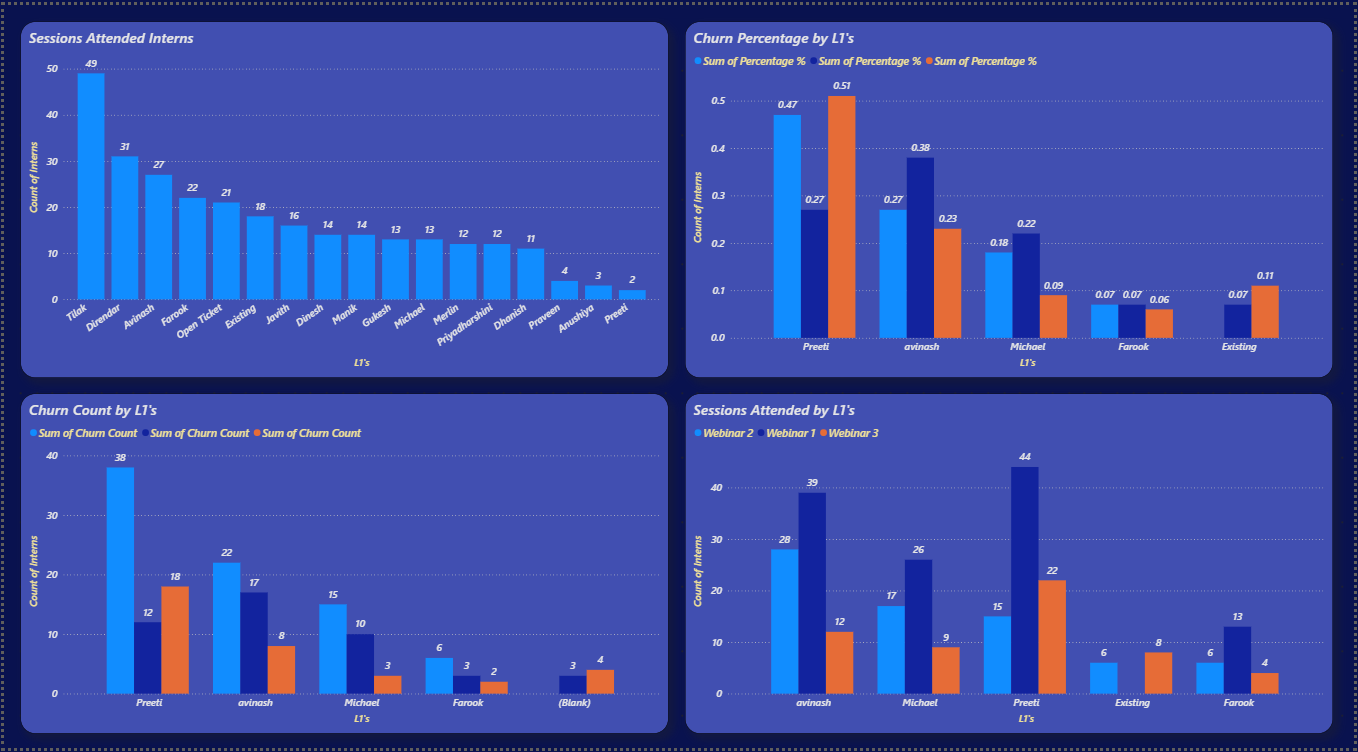

This screenshot's page, from the dashboard's own definition file:
{"tool":"powerbi","page":{"name":"Page 2","canvas":[2000,1100],"ordinal":1},"visuals":[{"type":"columnChart","title":"Sessions Attended Interns","fields":{"Y":["Sum(Final Sheet.number_of_sessions_attended)"],"Category":["Final Sheet.interns"]},"box":[24,24,960,528],"z":0},{"type":"clusteredColumnChart","title":"Sessions  Attended by L1''s","fields":{"Category":["L1 performence w3.L1 Name"],"Y":["Sum(L1 performence w2.Count)","Sum(L1 performence.Attendees)","Sum(L1 performence w3.Attendees)"]},"box":[1008,576,960,504],"z":1},{"type":"clusteredColumnChart","title":"Churn Count by L1''s","fields":{"Category":["churn by l1.L1 Name"],"Y":["Sum(churn by l1.Churn Count)","Sum(churn by l1 w2.Churn Count)","Sum(churn by l1 w3.Churn Count)"]},"box":[24,576,960,504],"z":2},{"type":"clusteredColumnChart","title":"Churn Percentage by L1''s","fields":{"Category":["churn by l1 w2.L1 Name"],"Y":["Sum(churn by l1.Percentage %)","Sum(churn by l1 w2.Percentage %)","Sum(churn by l1 w3.Percentage %)"]},"box":[1008,24,960,528],"z":3}]}

Visuals, with their boxes in screenshot pixels (x1, y1, x2, y2), scaled from the page's 2000x1100 canvas onto the 1358x752 screenshot:
"Sessions Attended Interns" columnChart: l=16, t=16, r=668, b=377
"Sessions  Attended by L1''s" clusteredColumnChart: l=684, t=394, r=1336, b=738
"Churn Count by L1''s" clusteredColumnChart: l=16, t=394, r=668, b=738
"Churn Percentage by L1''s" clusteredColumnChart: l=684, t=16, r=1336, b=377
